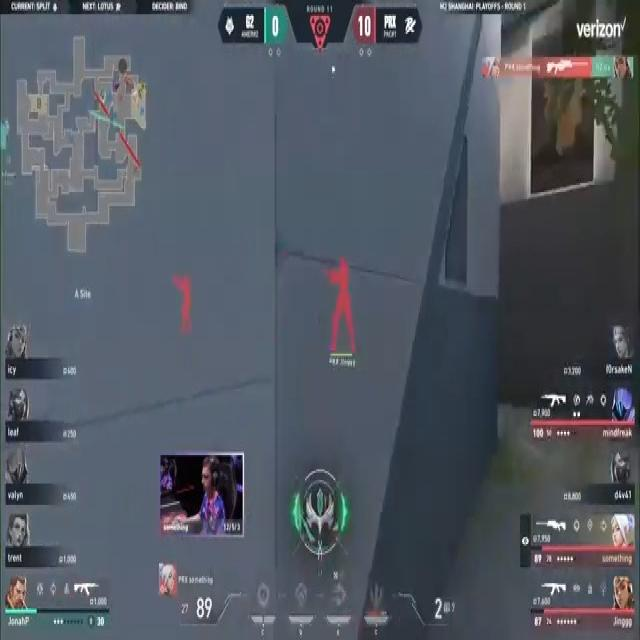enemy behind wall: (320, 248, 364, 366), (167, 264, 199, 343)
